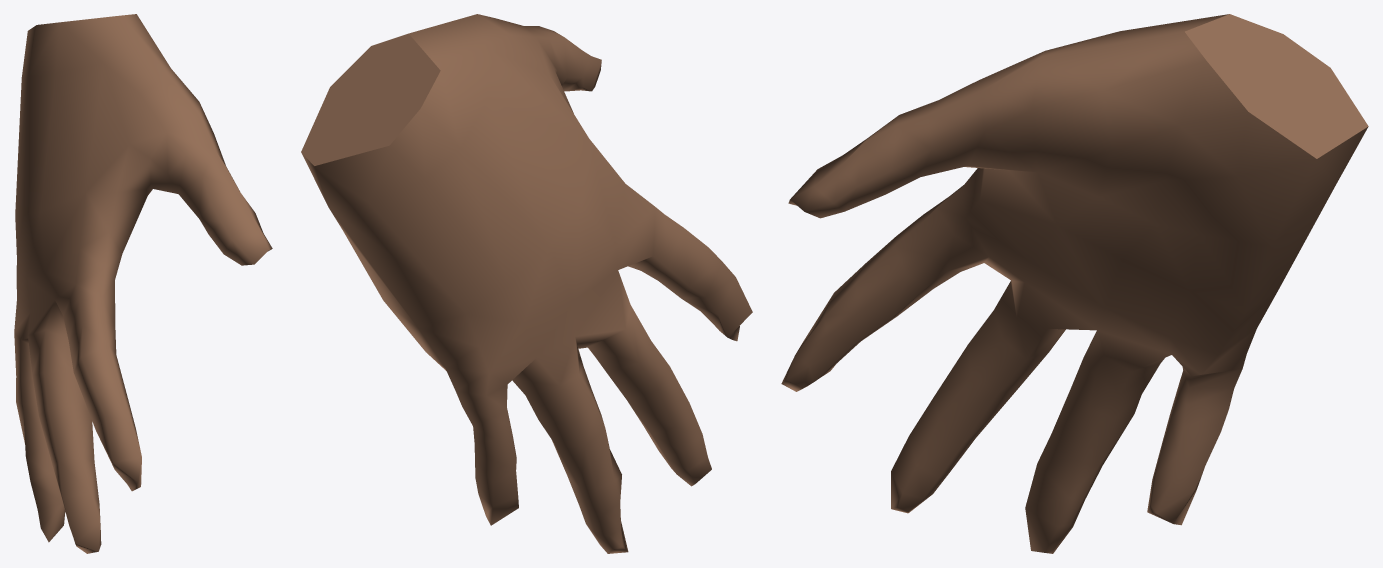
File: BH_RightHand.fbx
3 views of the same model, side by side, from view 1: azimuth 30°, elevation 25°; view 2: azimuth 150°, elevation 25°; view 3: azimuth 270°, elevation 25° (orthographic). The views are drawn at different scales.
Visible parts, largest first — view 1: BH_RHand; view 2: BH_RHand; view 3: BH_RHand.
Boxes of the visible parts, x1=… form: BH_RHand: x1=14, y1=14, x2=272, y2=553; BH_RHand: x1=301, y1=14, x2=752, y2=553; BH_RHand: x1=781, y1=14, x2=1368, y2=553.
Size of the model in its own units: 6.98 by 15.25 by 13.45.
